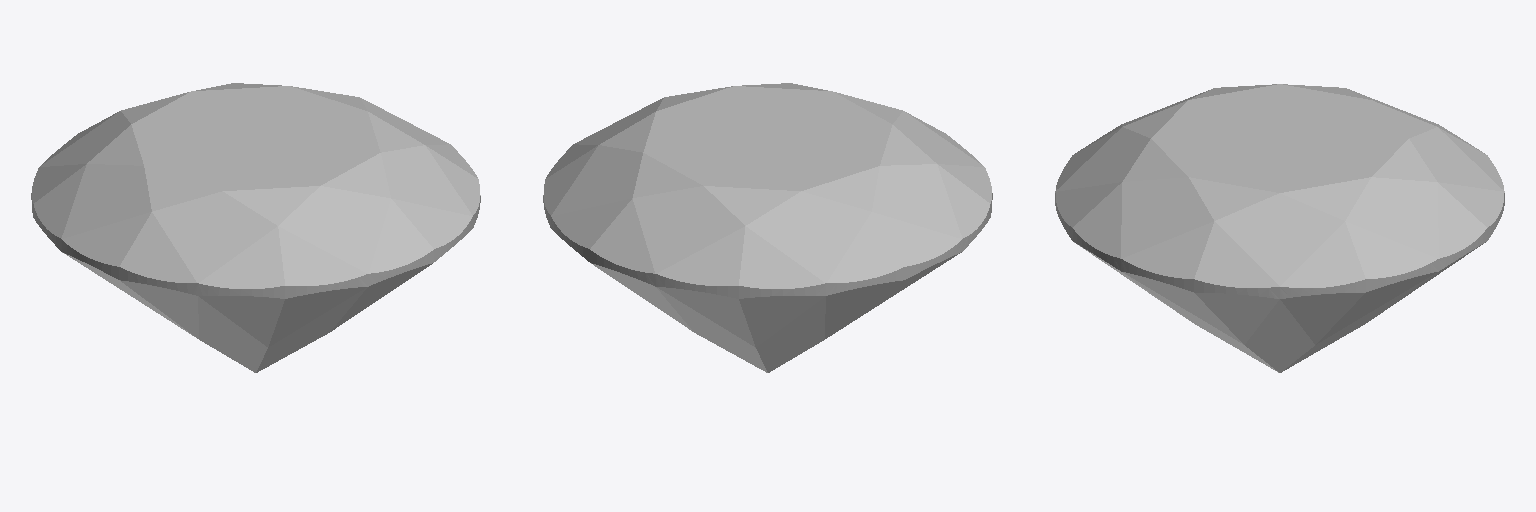
3 views of the same model, side by side, from view 1: azimuth 30°, elevation 25°; view 2: azimuth 150°, elevation 25°; view 3: azimuth 270°, elevation 25° (orthographic).
Parts seen in each view (by area): view 1: Diamond; view 2: Diamond; view 3: Diamond.
Boxes of the visible parts, x1,y1,x2,y2 form: Diamond: [31, 83, 480, 372]; Diamond: [543, 83, 992, 372]; Diamond: [1055, 84, 1504, 372].
Size of the model in its own units: 2.95 by 1.7 by 2.95.